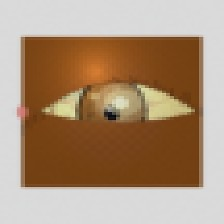corneal_ulcer: (93, 78, 154, 127)
